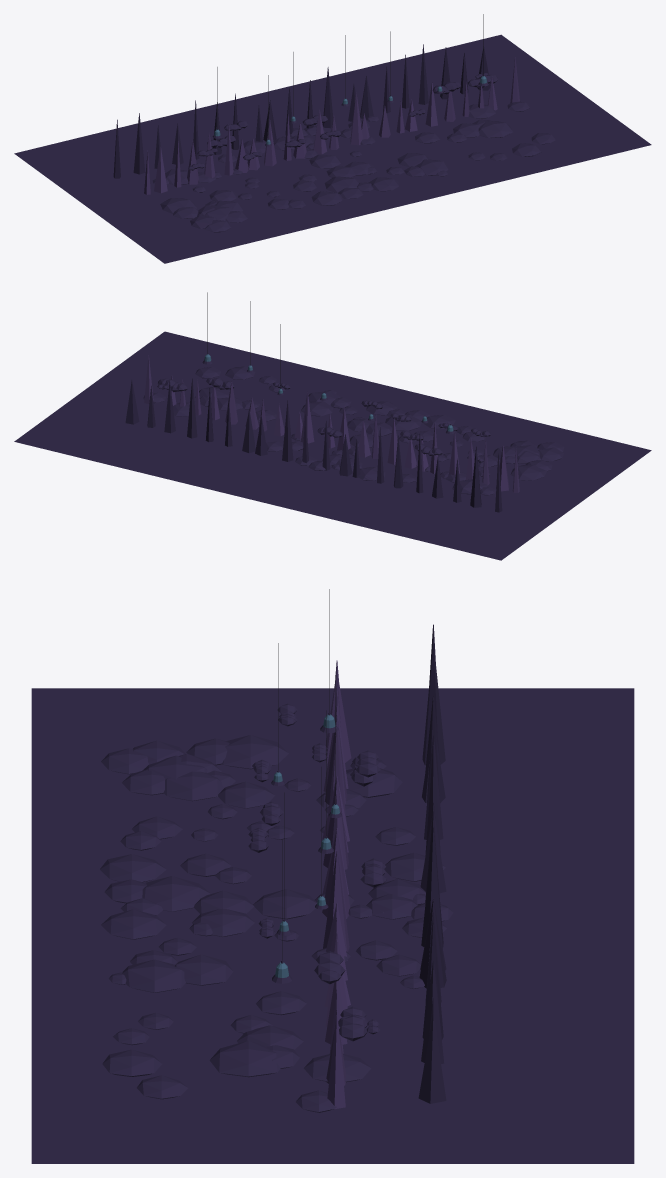
Rendered from backdrop-3.glb.
3 renders of one model, top to bottom at view 1: azimuth 30°, elevation 25°; view 2: azimuth 150°, elevation 25°; view 3: azimuth 270°, elevation 25°, orthographic. The views are drawn at different scales.
Parts seen in each view (by area): view 1: Model; view 2: Model; view 3: Model.
Boxes of the visible parts, <box> form: Model: <box>14,14,651,263</box>; Model: <box>14,292,651,560</box>; Model: <box>31,589,634,1163</box>.
Bounding box in the file's own units: 280 × 64.67 × 150.
Materials: 1 (1 with a texture image).
